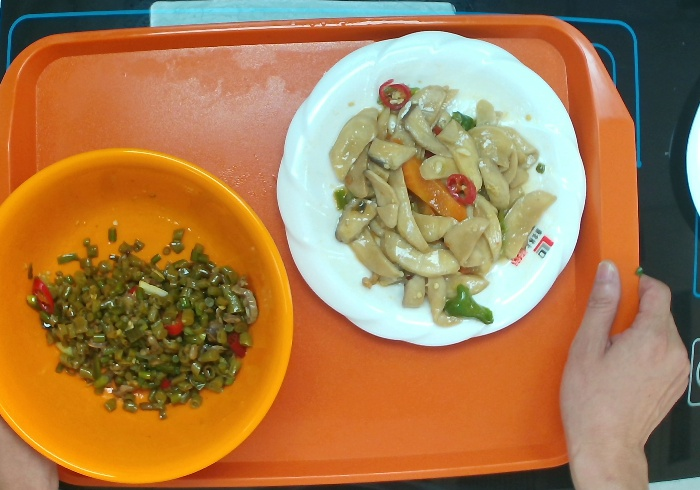ZNLD-Hua_Bian_Wan: (275, 27, 591, 348)
ZNLD-Ju_Se_Tang_Wan: (1, 144, 297, 490)
